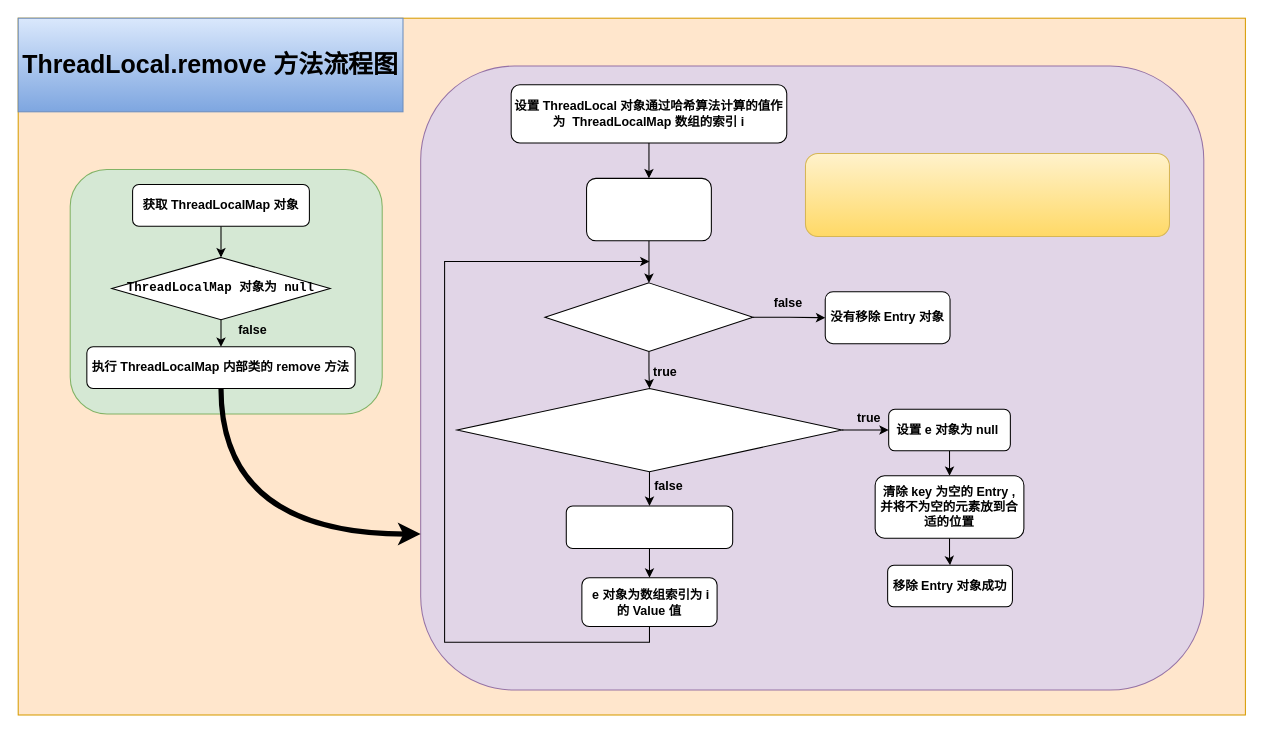
The diagram is 1264 pixels wide and 733 high, and some of its shapes have lost their labels. Here are the shapes that lost their labels. From the top down, the centre of each, then its label:
At point (648, 209): "设置数组索引 i 对应的 Entry 对象为 e".
At point (986, 194): "ThreadLocalMap.remove 方法流程图".
At point (648, 317): "如果 e 对象不是 null".
At point (649, 429): "而且e 对象的 key 与当前调用 ThreadLocal 类的对象一致".
At point (649, 527): "设置获取下一个索引值为 i".
